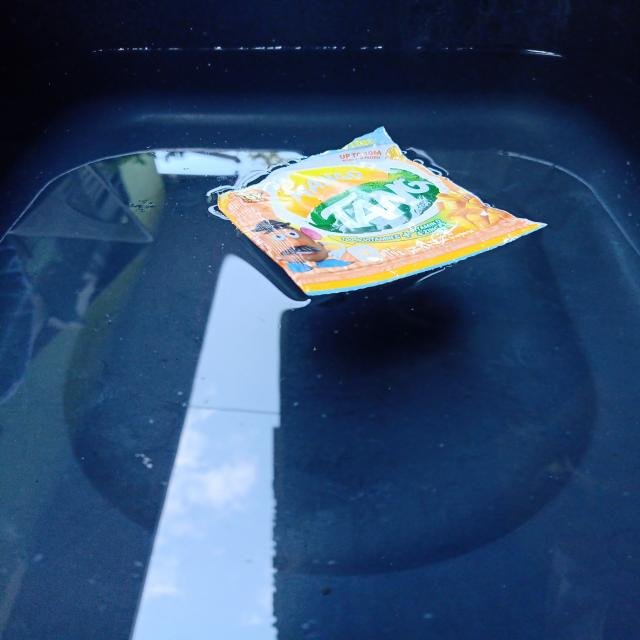Plastic Wrapper: (218, 129, 544, 296)
